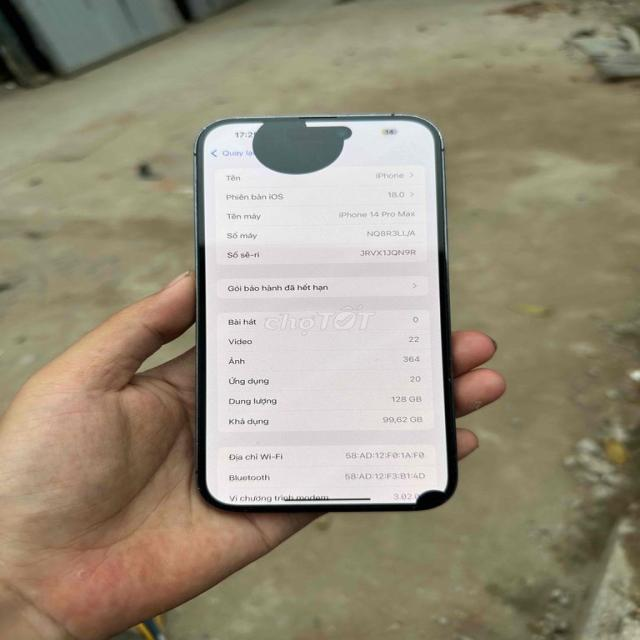gen_14: (179, 101, 480, 526)
